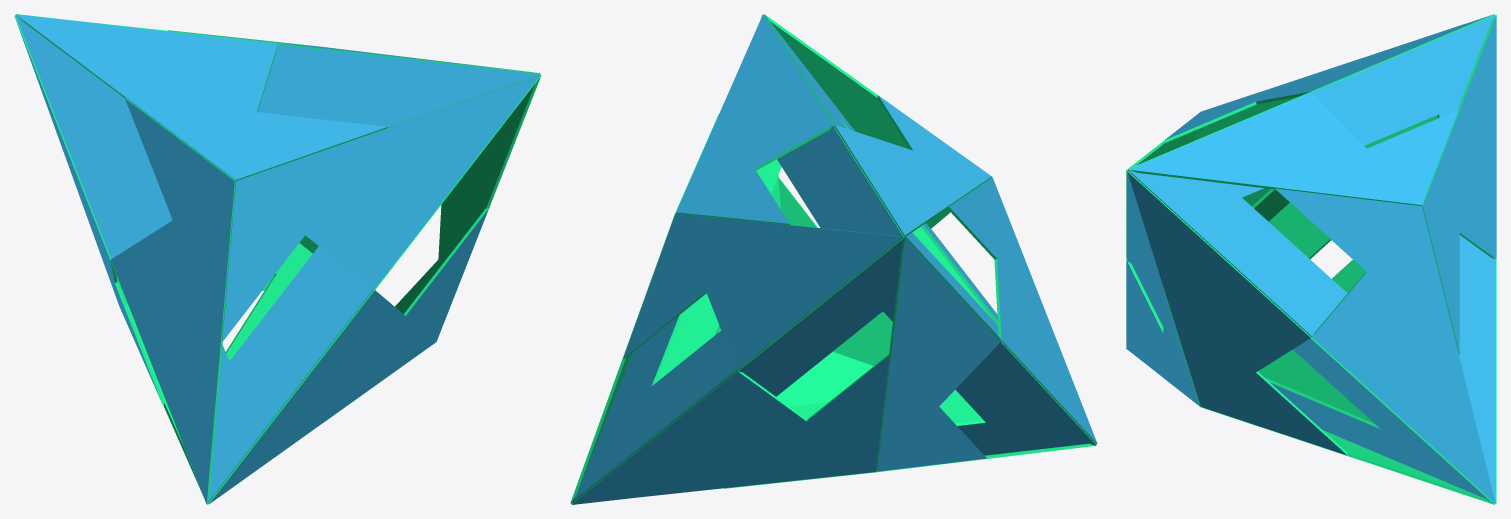
The model's file is TriakisTetrahedronS1.glb.
3 views of the same model, side by side, from view 1: azimuth 30°, elevation 25°; view 2: azimuth 150°, elevation 25°; view 3: azimuth 270°, elevation 25° (orthographic). The views are drawn at different scales.
Visible parts, largest first — view 1: root; view 2: root; view 3: root.
Part boxes in pixels (<box>): root: <box>14,14,541,504</box>; root: <box>570,14,1097,504</box>; root: <box>1126,14,1496,504</box>.
Bounding box in the file's own units: 6.4 × 6.4 × 6.4.
